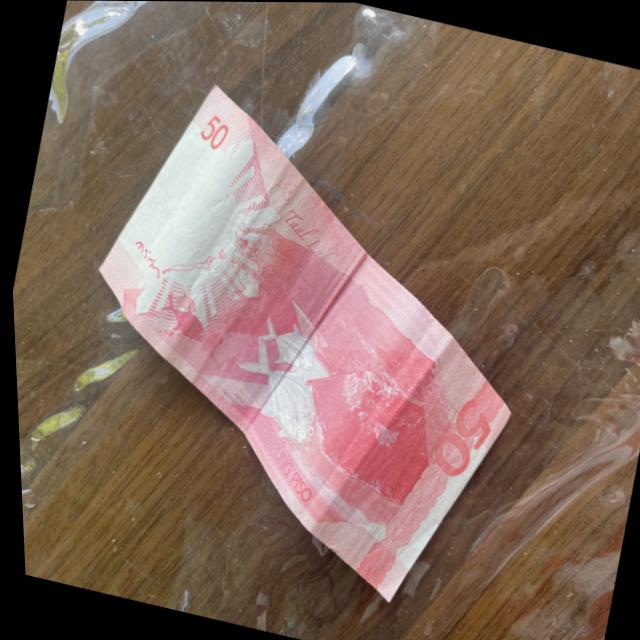50_maliputo: (210, 313, 346, 463)
50_maliputo_watermark: (142, 275, 220, 349)
watermark: (126, 131, 259, 292)
